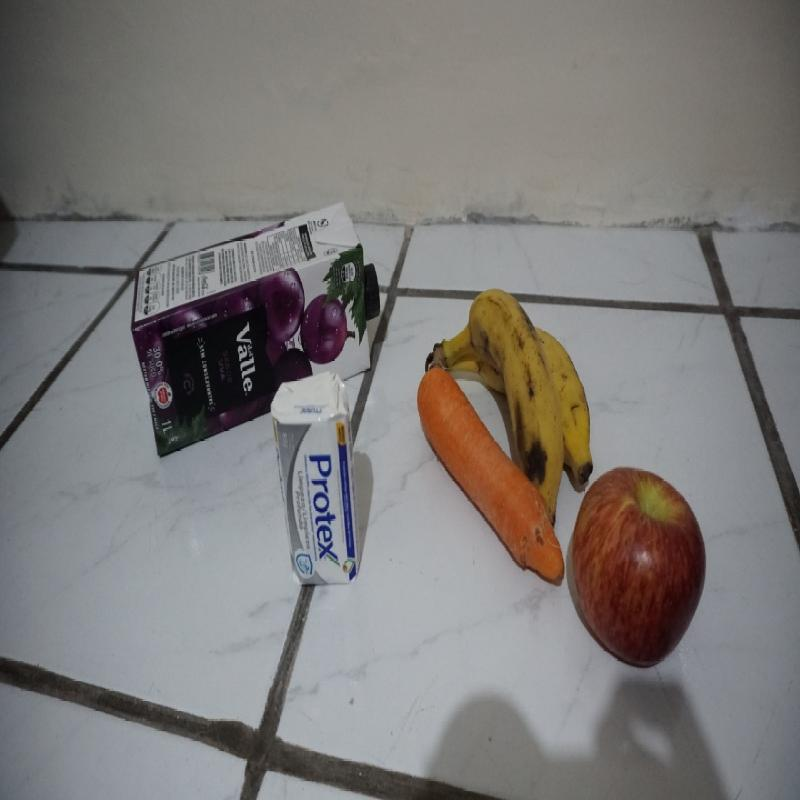Apple: (595, 457, 710, 674)
Banana: (510, 280, 594, 510)
Carrot: (411, 368, 512, 554)
Soap: (270, 375, 360, 586)
